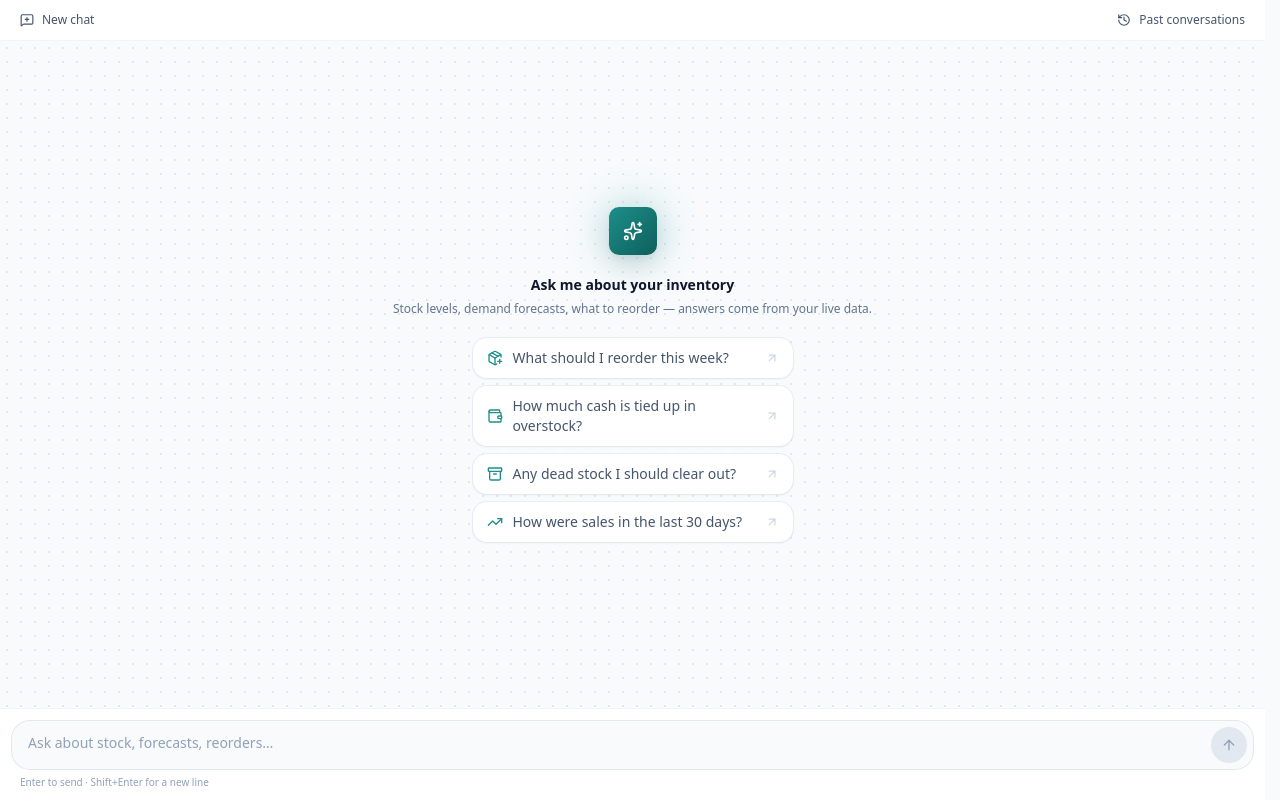
ChatPanel › sends a message and renders the assistant reply with source chips
Type "what should I reorder?" into the text box named "Message the assistant" at (612, 745), box [18,727,1205,763]
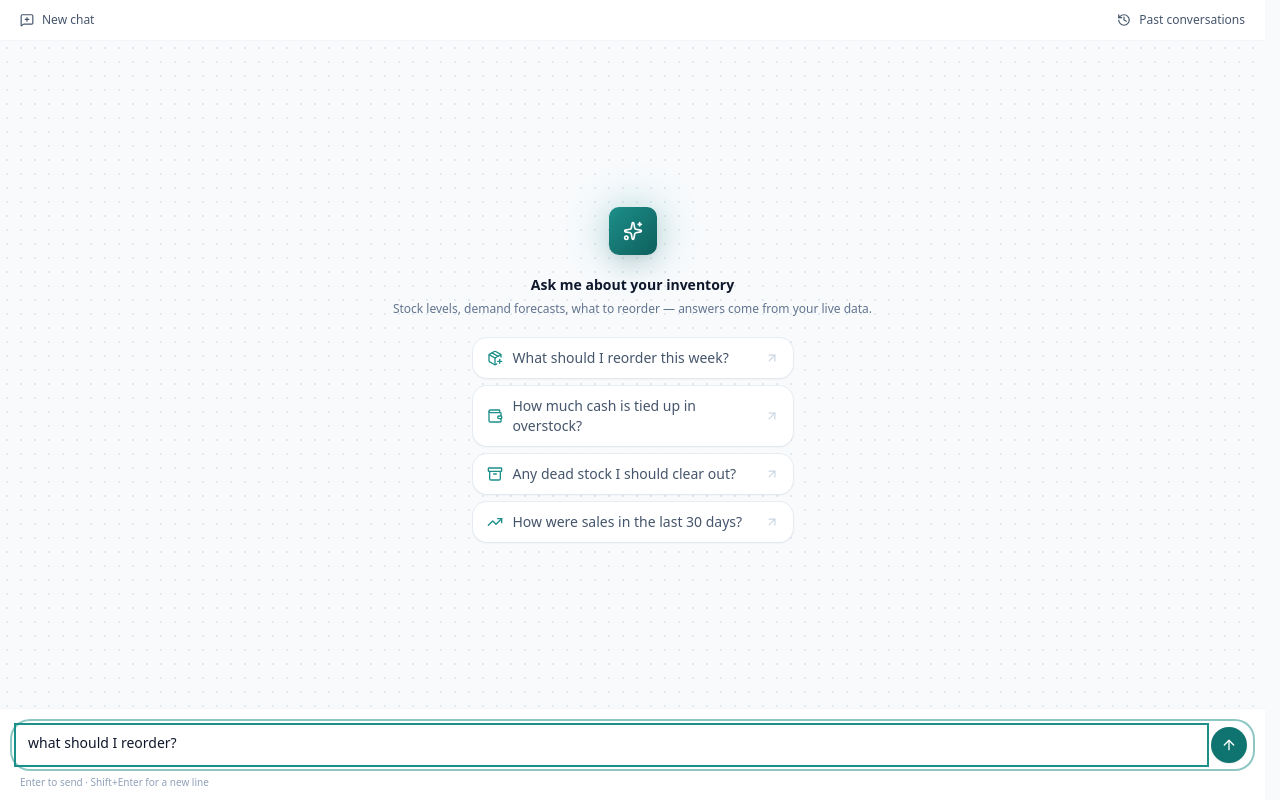
Click the button named "Send message" at (1229, 745), box [1211,727,1247,763]
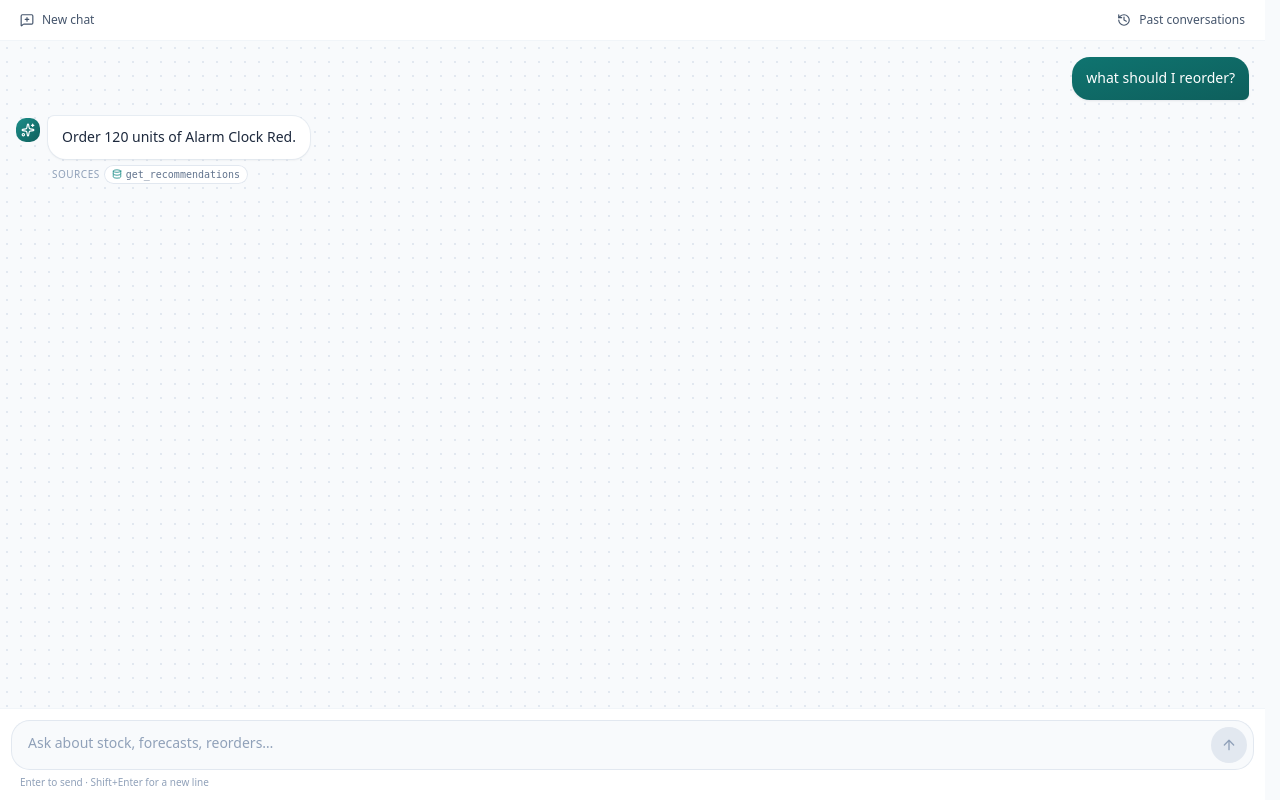
Now the text "Order 120 units of Alarm Clock Red." is shown, box [48,116,310,159]
Now the text "what should I reorder?" is shown, box [1072,57,1249,100]
Now the text "get_recommendations" is shown, box [104,164,248,184]
